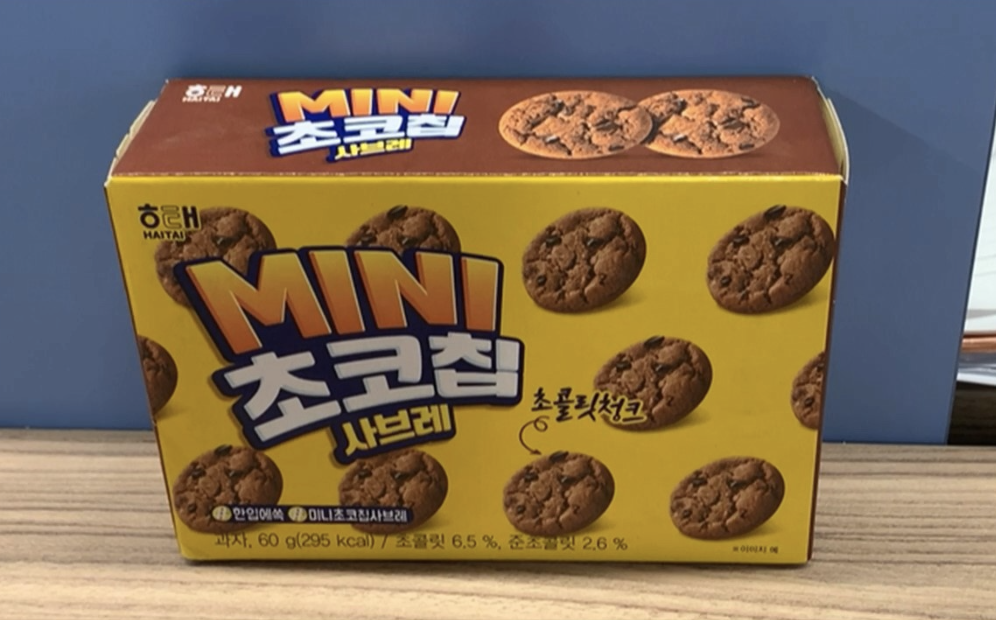cookies_1g-99g: (149, 189, 799, 539)
